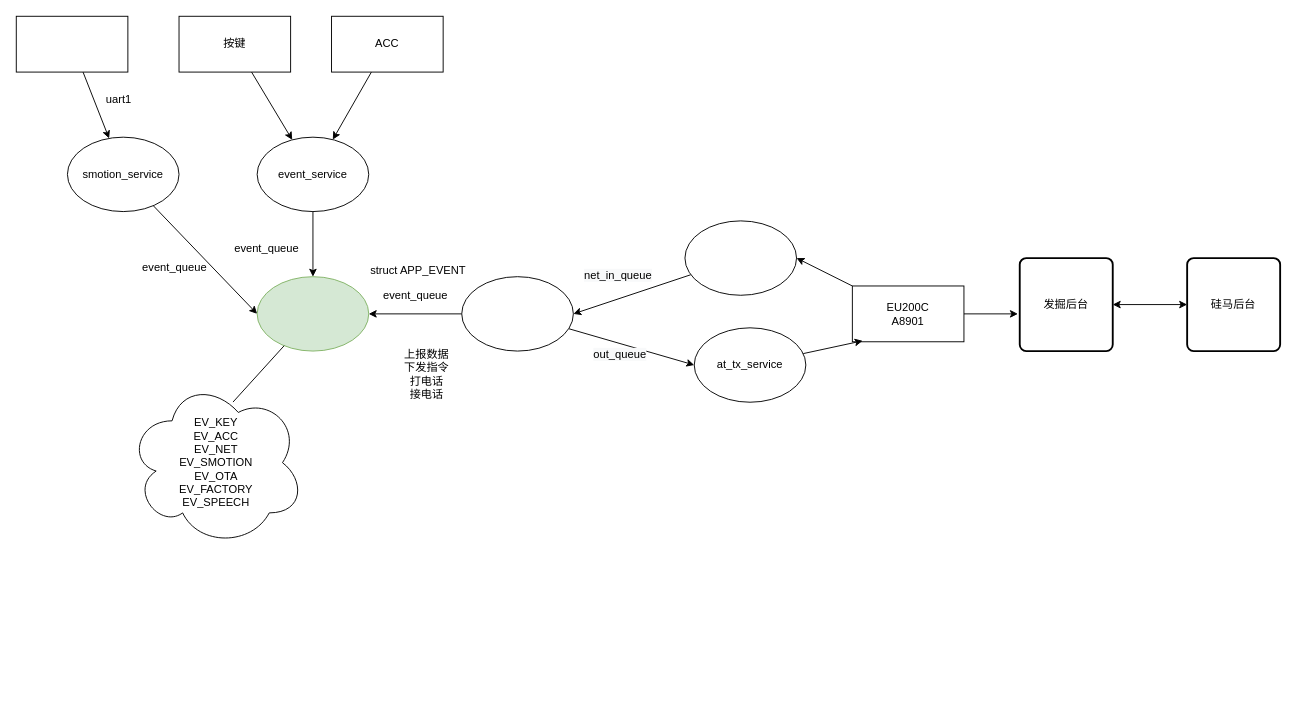
Image size: 1297x719. Some labels were removed from this diagram. The centre of each missing label's shape, as x and y in pixels:
"app_service" belongs at (x=312, y=313).
"at_rx_service" belongs at (x=740, y=257).
"net_service" belongs at (x=517, y=313).
"硅马模块" belongs at (x=71, y=43).
